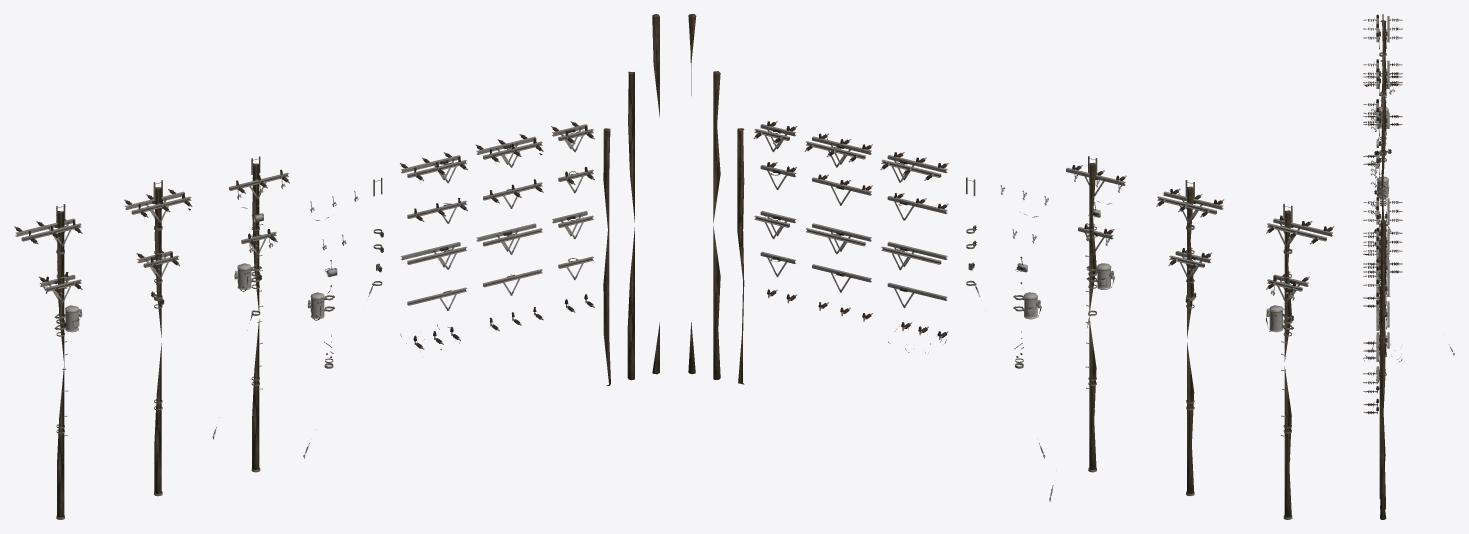
Rendered from modular_electricity_poles.glb.
The picture shows the model from 3 angles, left to right: view 1: azimuth 30°, elevation 25°; view 2: azimuth 150°, elevation 25°; view 3: azimuth 270°, elevation 25°; orthographic projection. The views are drawn at different scales.
Visible parts, largest first — view 1: preset_03_pole, pole, preset_01_pole, preset_02_pole, pole_small, connection_large_01, connection_large_offset_01, preset_02_connection_large_01, preset_03_connection_large_offset_01, pole_large, support_large_offset_01, support_large_01; view 2: pole, preset_01_pole, preset_03_pole, preset_02_pole, pole_small, connection_large_01, connection_large_offset_01, preset_02_connection_large_01, preset_03_connection_large_offset_01, support_large_offset_01, support_large_01; view 3: pole_small, pole_large, pole, preset_03_connection_large_offset_01, preset_02_connection_large_01, preset_01_pole, connection_large_01, connection_large_offset_01, connection_small_01, preset_02_pole, preset_01_transformer_01, preset_02_connection_small_01 (+8 smaller).
Boxes of the visible parts, x1=… form: preset_03_pole: x1=57, y1=211, x2=64, y2=517; pole: x1=627, y1=71, x2=634, y2=380; preset_01_pole: x1=252, y1=163, x2=259, y2=469; preset_02_pole: x1=154, y1=187, x2=161, y2=493; pole_small: x1=603, y1=128, x2=610, y2=385; connection_large_01: x1=475, y1=134, x2=543, y2=167; connection_large_offset_01: x1=400, y1=152, x2=467, y2=183; preset_02_connection_large_01: x1=124, y1=189, x2=192, y2=222; preset_03_connection_large_offset_01: x1=14, y1=218, x2=82, y2=246; pole_large: x1=652, y1=14, x2=659, y2=374; support_large_offset_01: x1=400, y1=242, x2=466, y2=269; support_large_01: x1=476, y1=223, x2=542, y2=254; pole: x1=713, y1=71, x2=720, y2=379; preset_01_pole: x1=1089, y1=162, x2=1096, y2=469; preset_03_pole: x1=1284, y1=210, x2=1291, y2=517; preset_02_pole: x1=1187, y1=186, x2=1194, y2=493; pole_small: x1=737, y1=128, x2=744, y2=384; connection_large_01: x1=804, y1=133, x2=872, y2=167; connection_large_offset_01: x1=880, y1=152, x2=948, y2=182; preset_02_connection_large_01: x1=1156, y1=188, x2=1224, y2=222; preset_03_connection_large_offset_01: x1=1266, y1=215, x2=1334, y2=246; support_large_offset_01: x1=881, y1=241, x2=947, y2=270; support_large_01: x1=806, y1=223, x2=871, y2=254; pole_small: x1=1379, y1=286, x2=1385, y2=498; pole_large: x1=1380, y1=219, x2=1386, y2=519; pole: x1=1380, y1=267, x2=1385, y2=509; preset_03_connection_large_offset_01: x1=1363, y1=14, x2=1402, y2=49; preset_02_connection_large_01: x1=1363, y1=59, x2=1402, y2=88; preset_01_pole: x1=1380, y1=99, x2=1385, y2=354; connection_large_01: x1=1363, y1=227, x2=1402, y2=257; connection_large_offset_01: x1=1363, y1=197, x2=1402, y2=231; connection_small_01: x1=1363, y1=258, x2=1402, y2=282; preset_02_pole: x1=1380, y1=60, x2=1386, y2=311; preset_01_transformer_01: x1=1376, y1=176, x2=1389, y2=199; preset_02_connection_small_01: x1=1363, y1=112, x2=1402, y2=135.
Bounding box in the file's own units: 13.11 × 7 × 1.96.
Materials: 2 (2 with a texture image).
